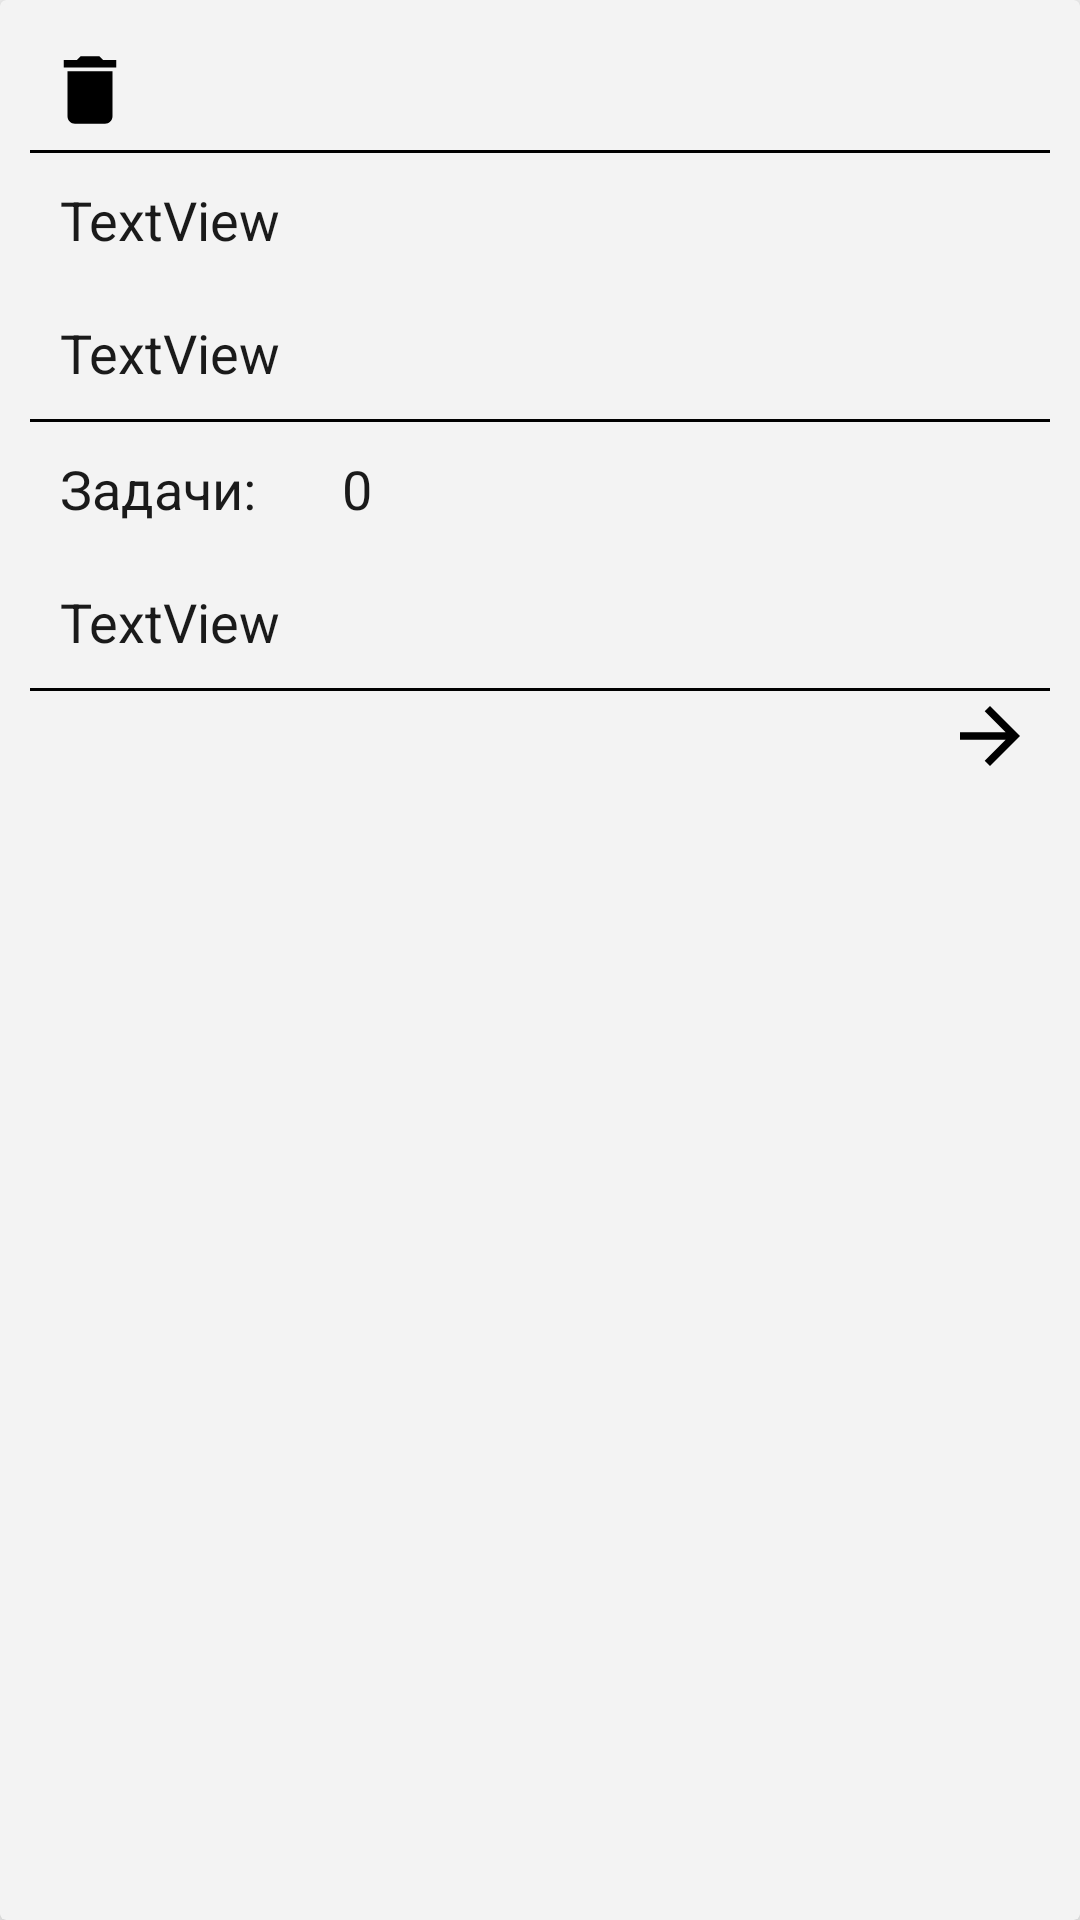

Locate icon controls on the screen. Image size 1080*1920, boxes as (x1, y1, x2, y2).
arrow forward: (960, 706, 1020, 766)
delete: (63, 56, 117, 124)
